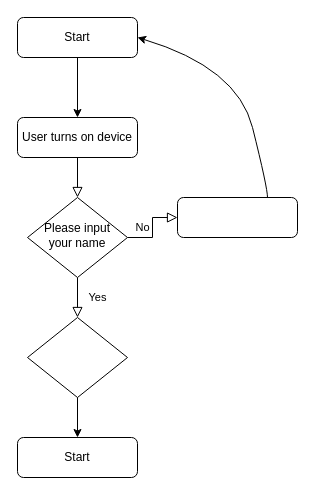
Some shapes in this 315 by 495 pixel diagram are drawn without their labels. The centre of each missing label's shape, as x and y in pixels:
"Hello *User's name*" belongs at (x=77, y=357).
"Restart" belongs at (x=237, y=217).
